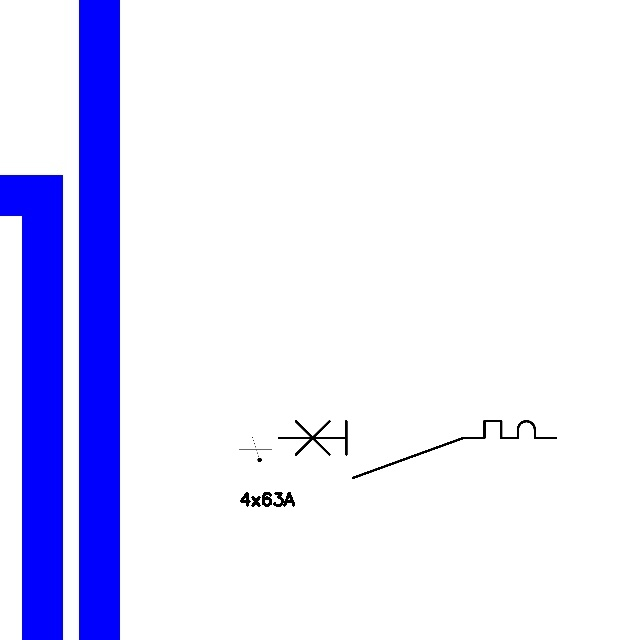interruptor_termomagnetico: (271, 414, 562, 485)
